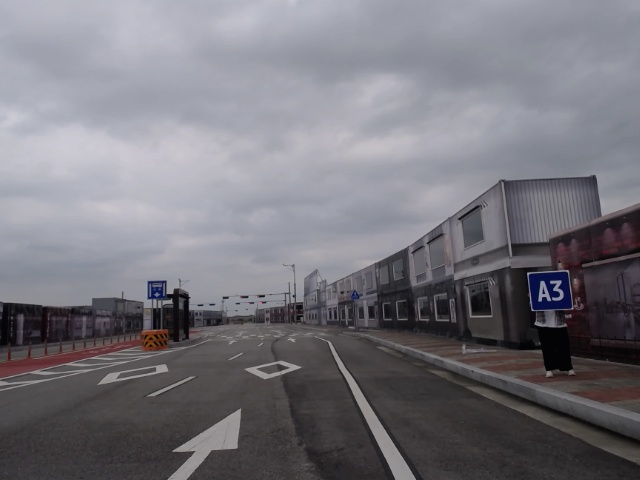delivery_a3: (528, 271, 573, 311)
